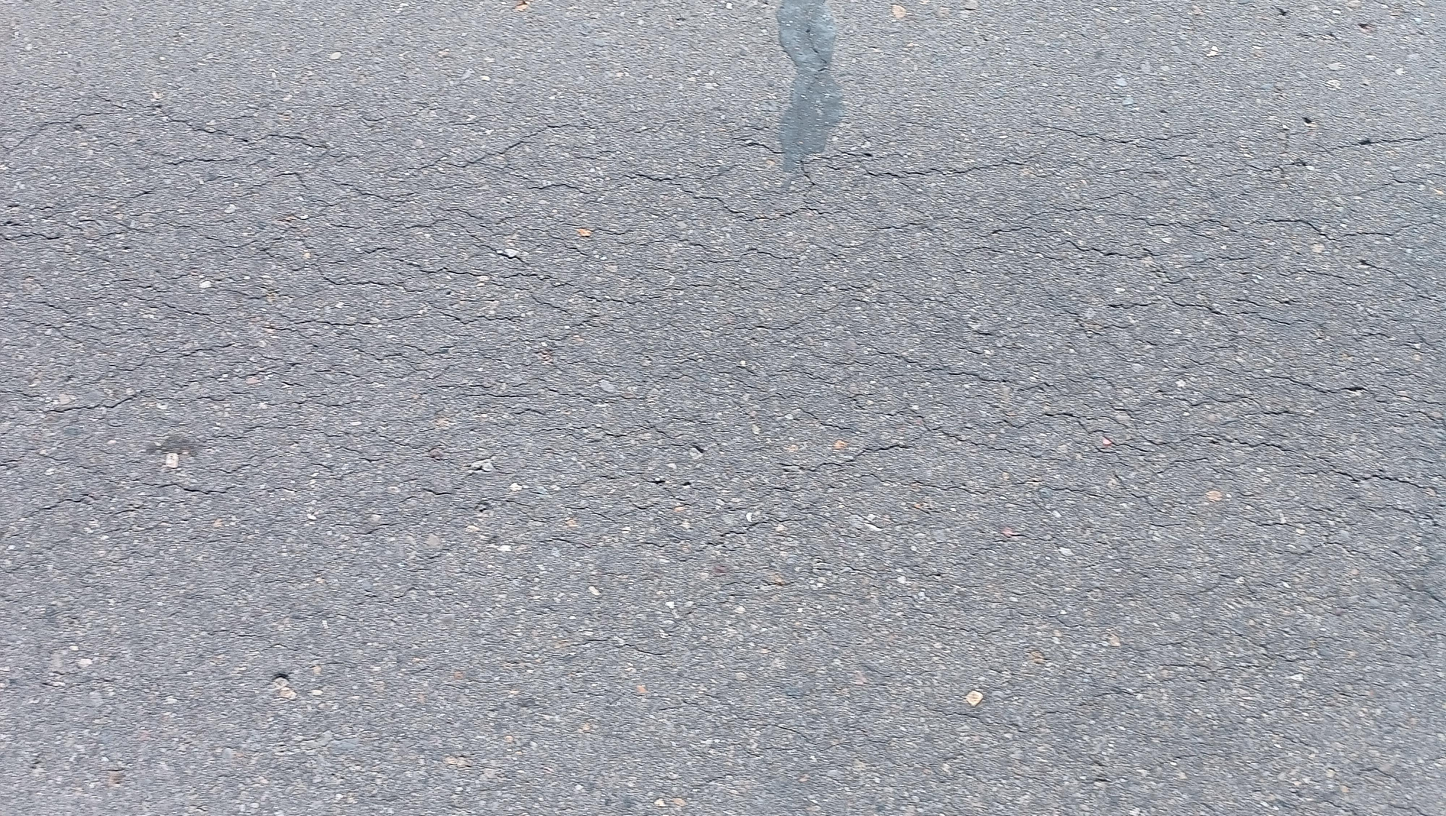PIEL DE COCODRILO: (0, 98, 1446, 623)
